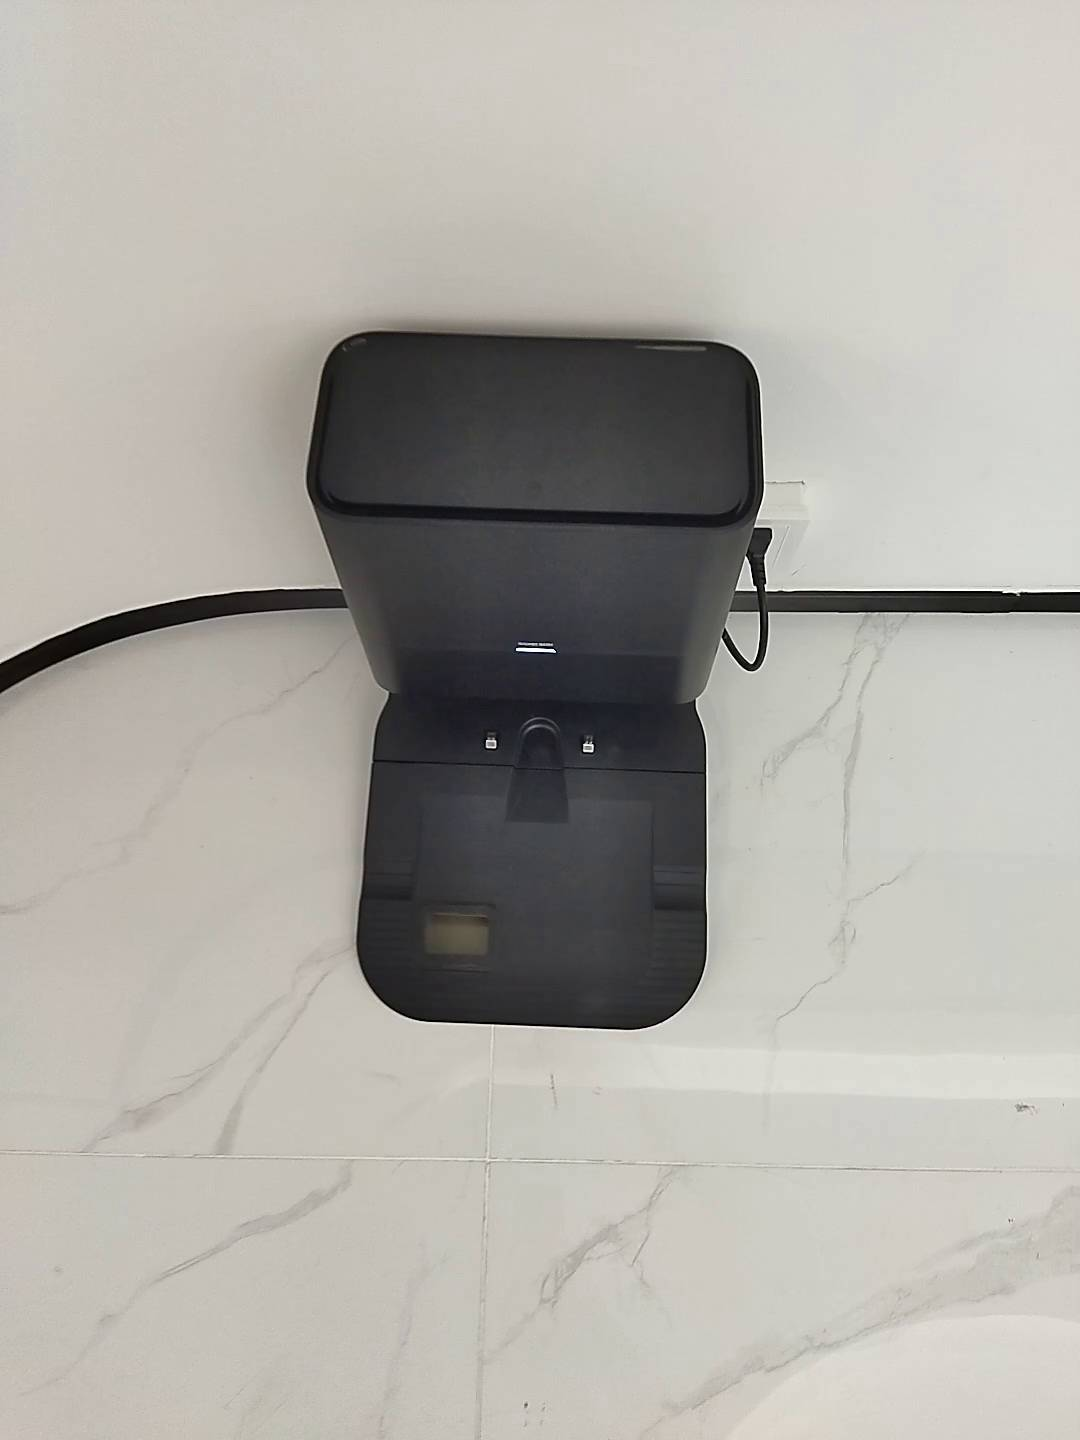dust collecting barrel: (306, 328, 767, 1025)
